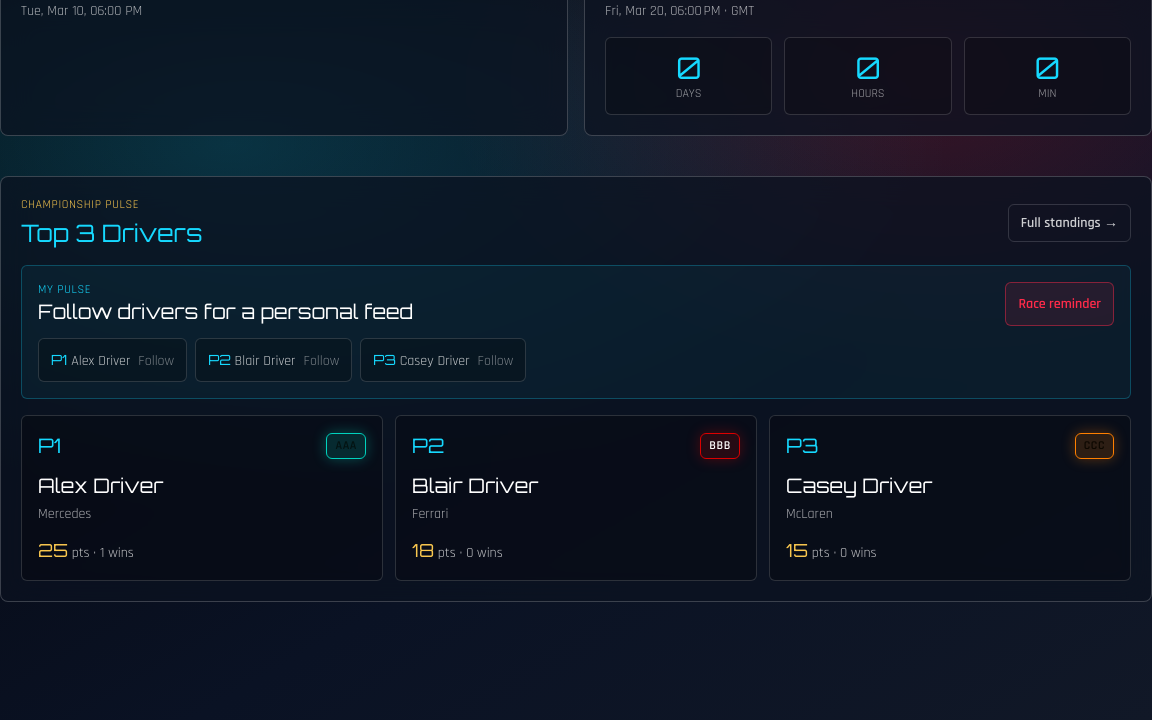
HomeClient › lets users follow drivers for the My Pulse feed
(page scrolled)
Expected: the heading "Follow drivers for a personal feed" is shown, [38, 298, 413, 326]
What coordinates should you click on to do the following:
click the button "Alex Driver"
I would click on:
 (113, 360)
Its box is [38, 338, 187, 382].
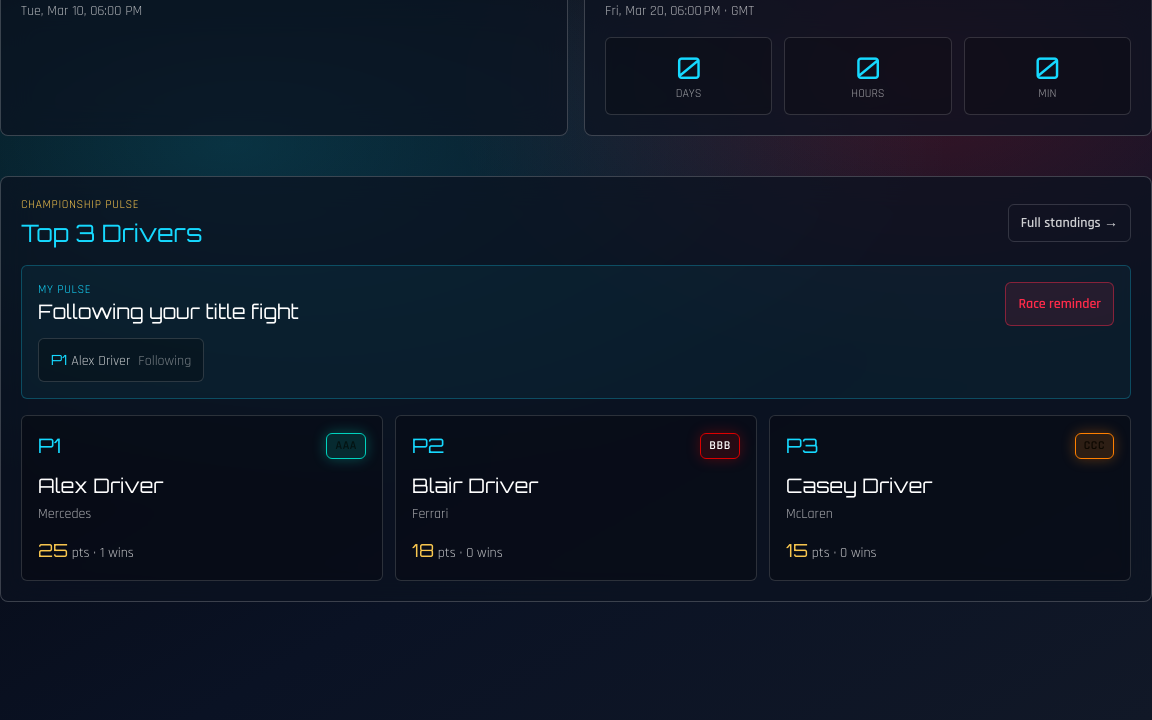
Now the heading "Following your title fight" is shown, box [38, 298, 299, 326]
